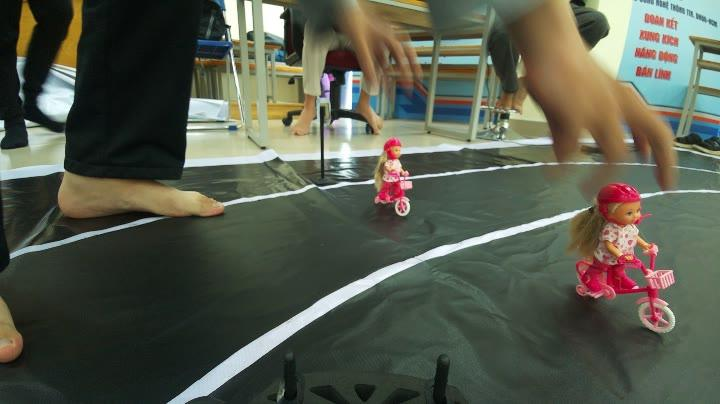pedestrian: (566, 188, 688, 336), (365, 142, 422, 222)
